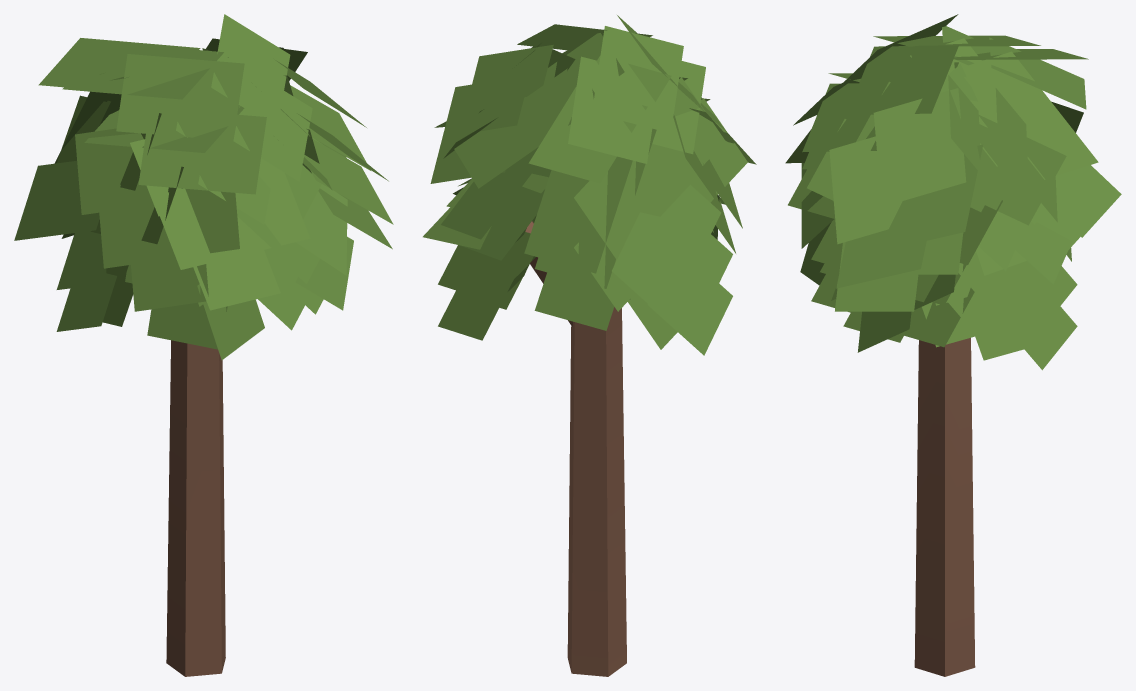
File: Arbol.fbx
3 views of the same model, side by side, from view 1: azimuth 30°, elevation 25°; view 2: azimuth 150°, elevation 25°; view 3: azimuth 270°, elevation 25° (orthographic).
Visible parts, largest first — view 1: pCylinder26; view 2: pCylinder26; view 3: pCylinder26.
Boxes of the visible parts, bbox=[...] form: pCylinder26: bbox=[14, 14, 393, 676]; pCylinder26: bbox=[423, 15, 756, 676]; pCylinder26: bbox=[785, 14, 1121, 676].
Size of the model in its own units: 3.99 by 8.6 by 4.13.
